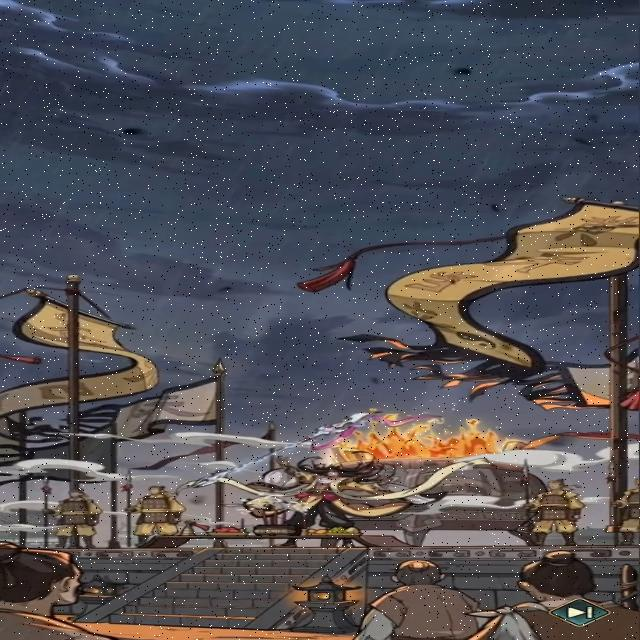system-skip: (548, 597, 612, 627)
